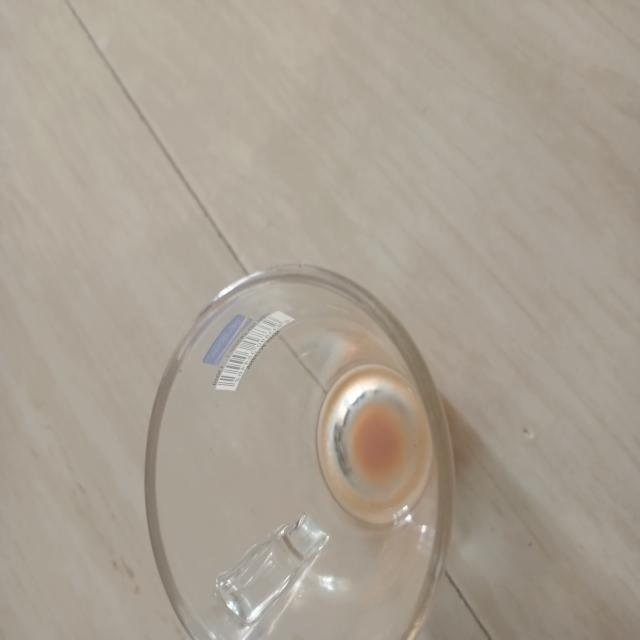glass-VX4N: (141, 265, 457, 640)
